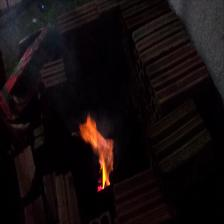fire: (78, 111, 114, 193)
